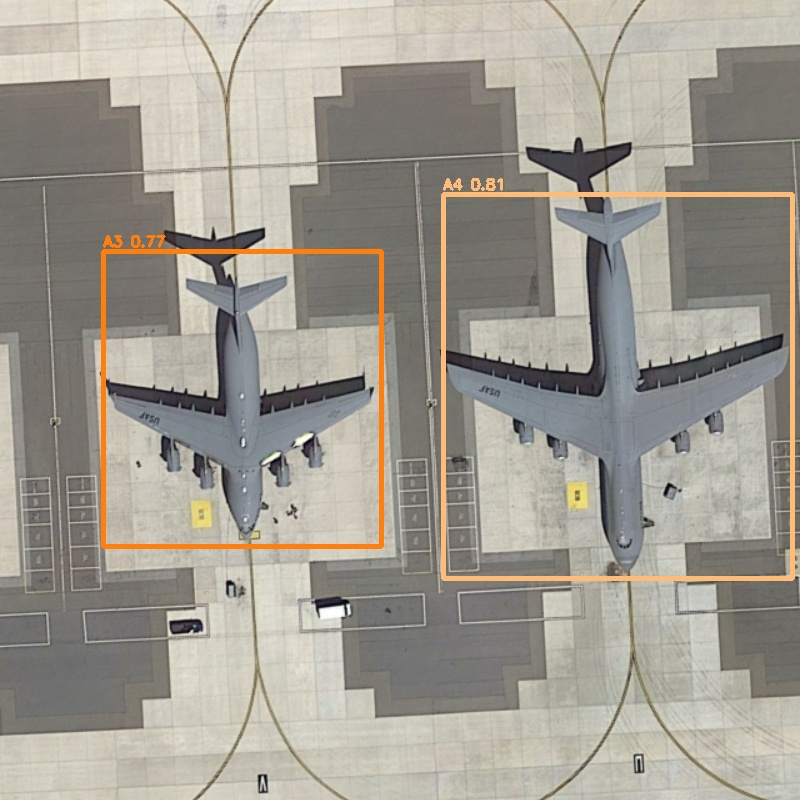A3: (103, 251, 381, 546)
A4: (443, 194, 792, 578)
